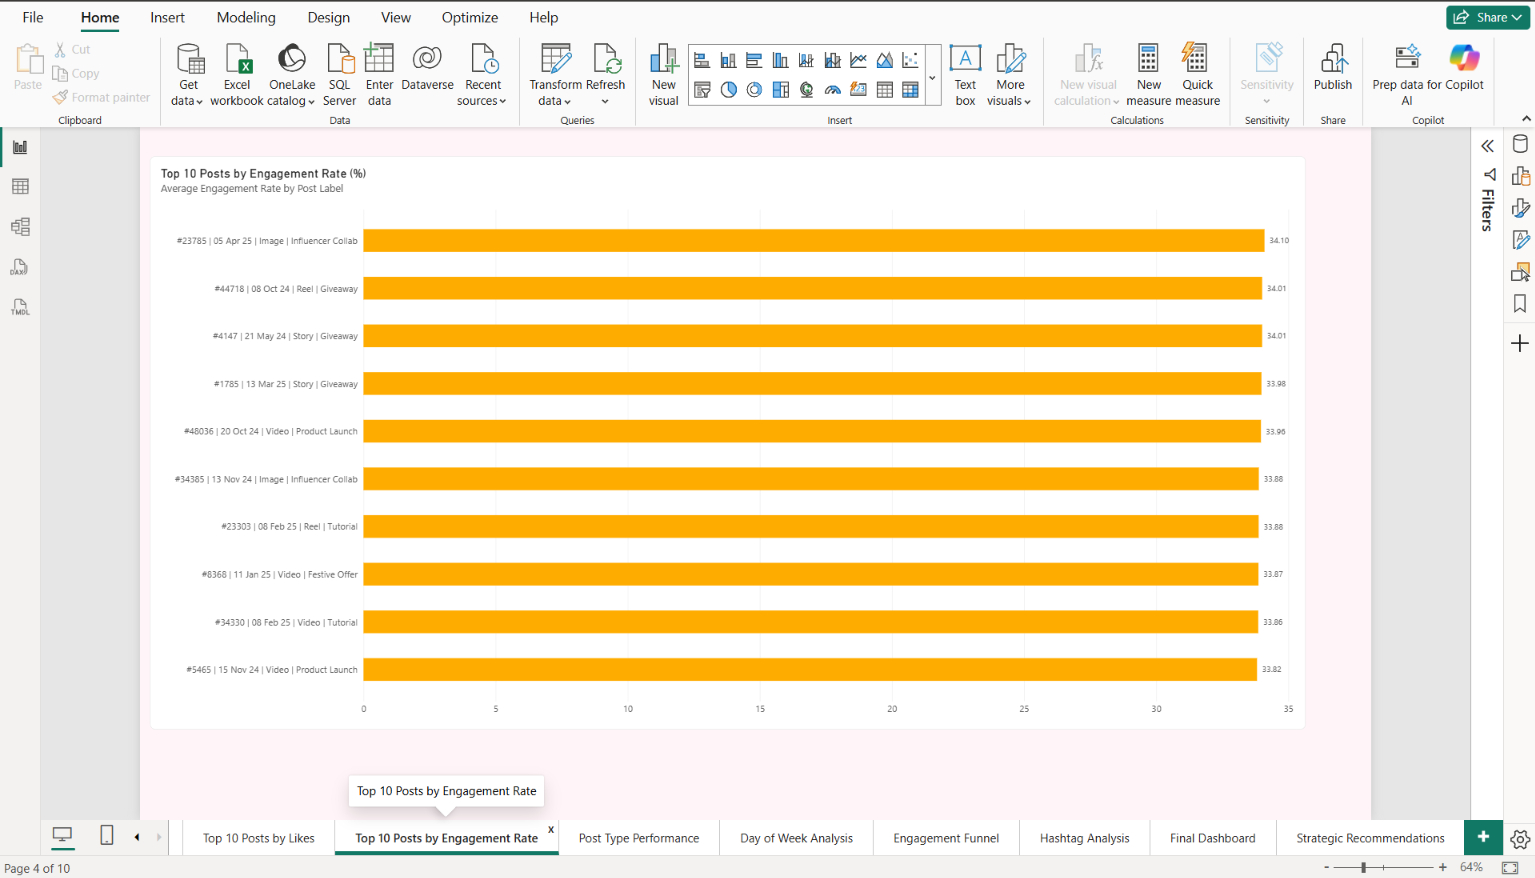

Layout of this report page (visuals, bound fields, positions):
{"tool":"powerbi","page":{"name":"Top 10 Posts by Engagement Rate","canvas":[1920,1080],"ordinal":3},"visuals":[{"type":"clusteredBarChart","title":"Top 10 Posts by Engagement Rate (%)","fields":{"Category":["Posts.Post Label"],"Y":["Posts.Average Engagement Rate"]},"box":[16.1,45.2,1801.6,893.5],"z":0}]}

Visuals, with their boxes on the page's 1920x1080 design canvas (x1, y1, x2, y2). These are canvas units, not pixel positions in the 1535x878 screenshot, which may show the page scaled, cropped or inside an application window:
"Top 10 Posts by Engagement Rate (%)" clusteredBarChart: rect(16, 45, 1818, 939)
